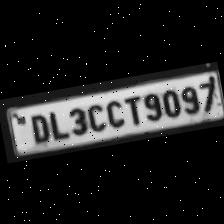0: (156, 84, 182, 119)
3: (64, 104, 89, 138)
7: (194, 76, 220, 114)
9: (136, 88, 162, 123), (176, 81, 200, 116)
C: (100, 95, 125, 129), (82, 98, 106, 132)
D: (24, 110, 50, 144)
L: (45, 106, 69, 142)
T: (119, 91, 144, 126)
